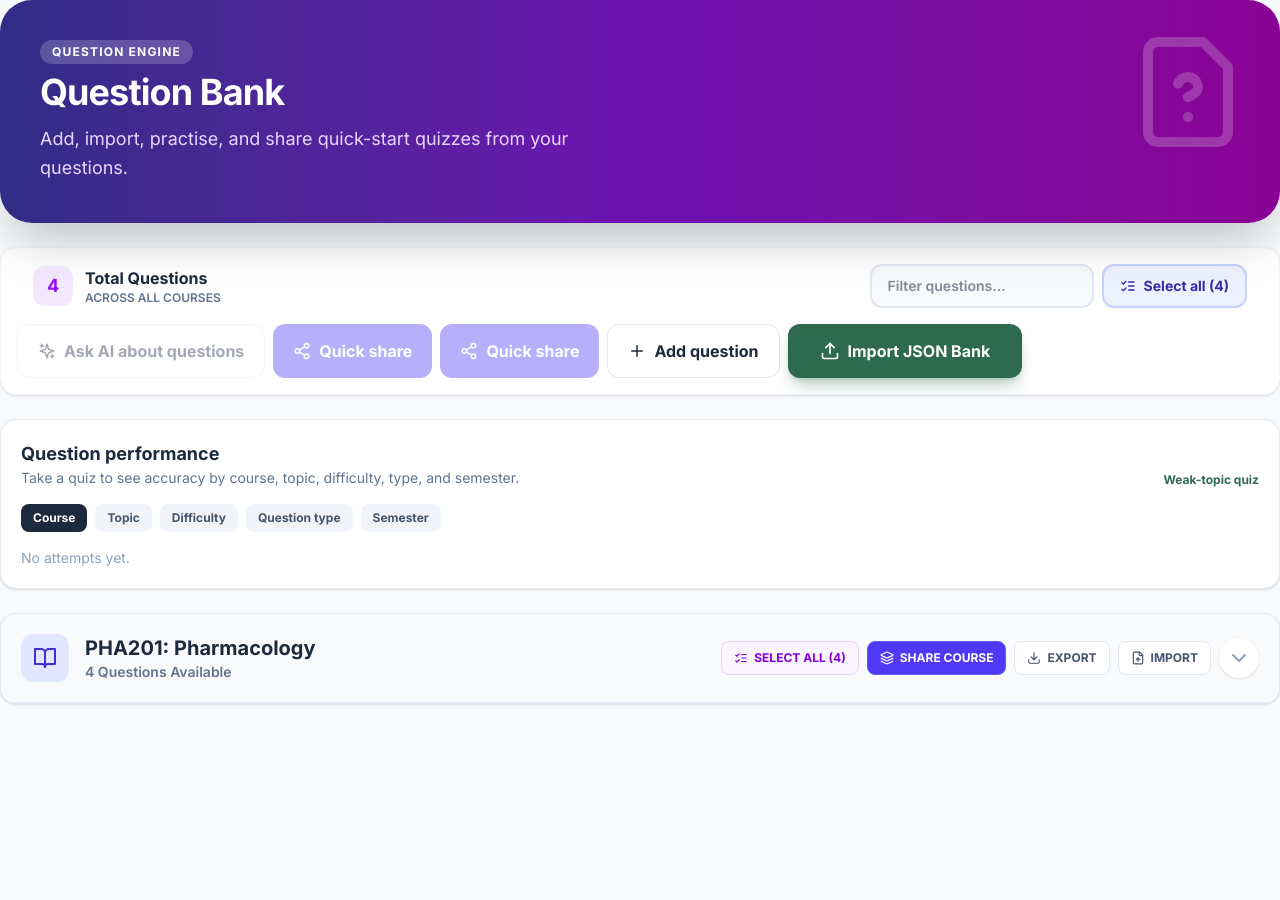
Test case: Select all follows the filter › Clear removes the whole selection in one click
The width and height of the screenshot is (1280, 900).
Click the button with test id "select-all-course-c1". click: click(790, 658)
box: [721,640,859,674]
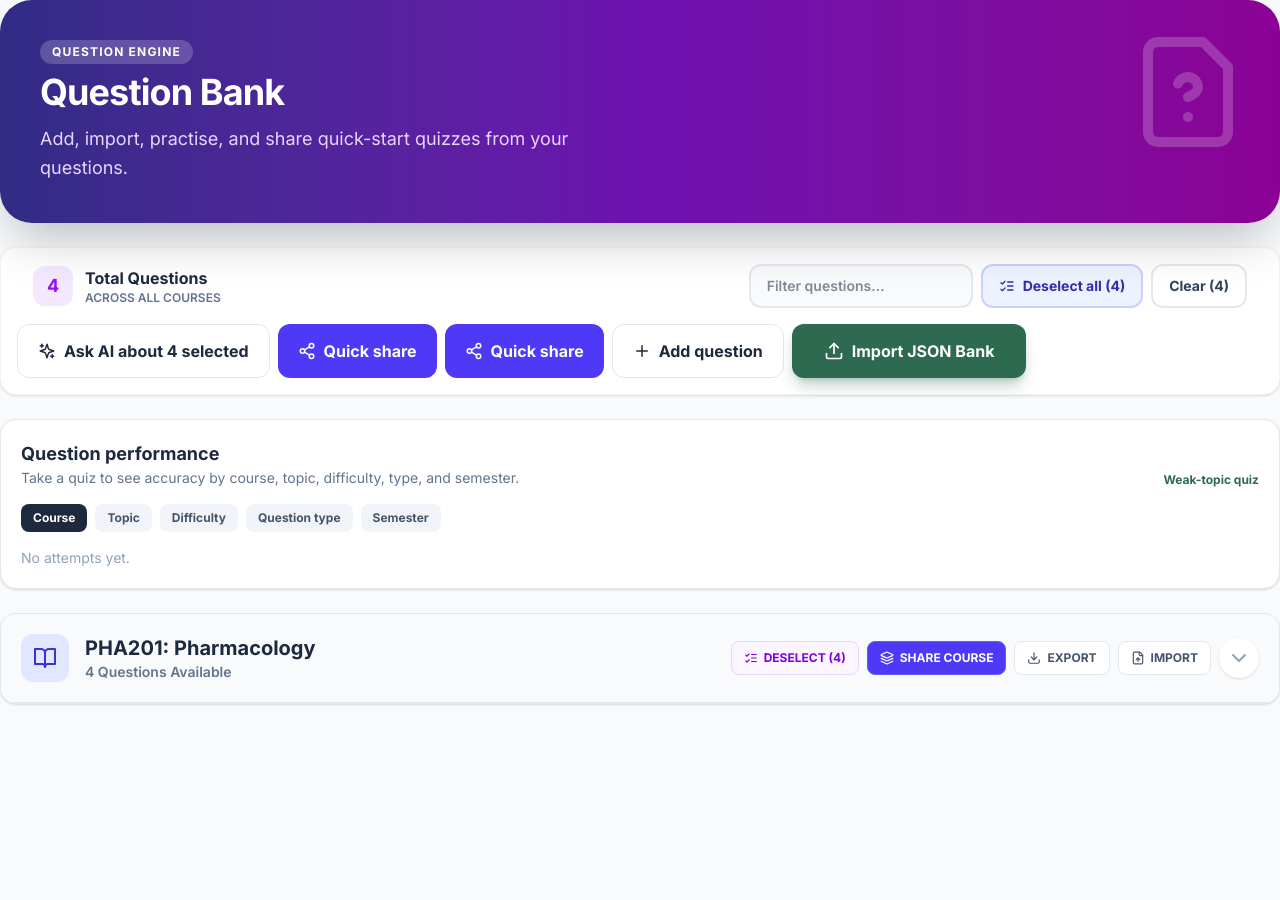
Click the button with test id "clear-question-selection". click: click(1199, 286)
box: [1151,264,1247,308]
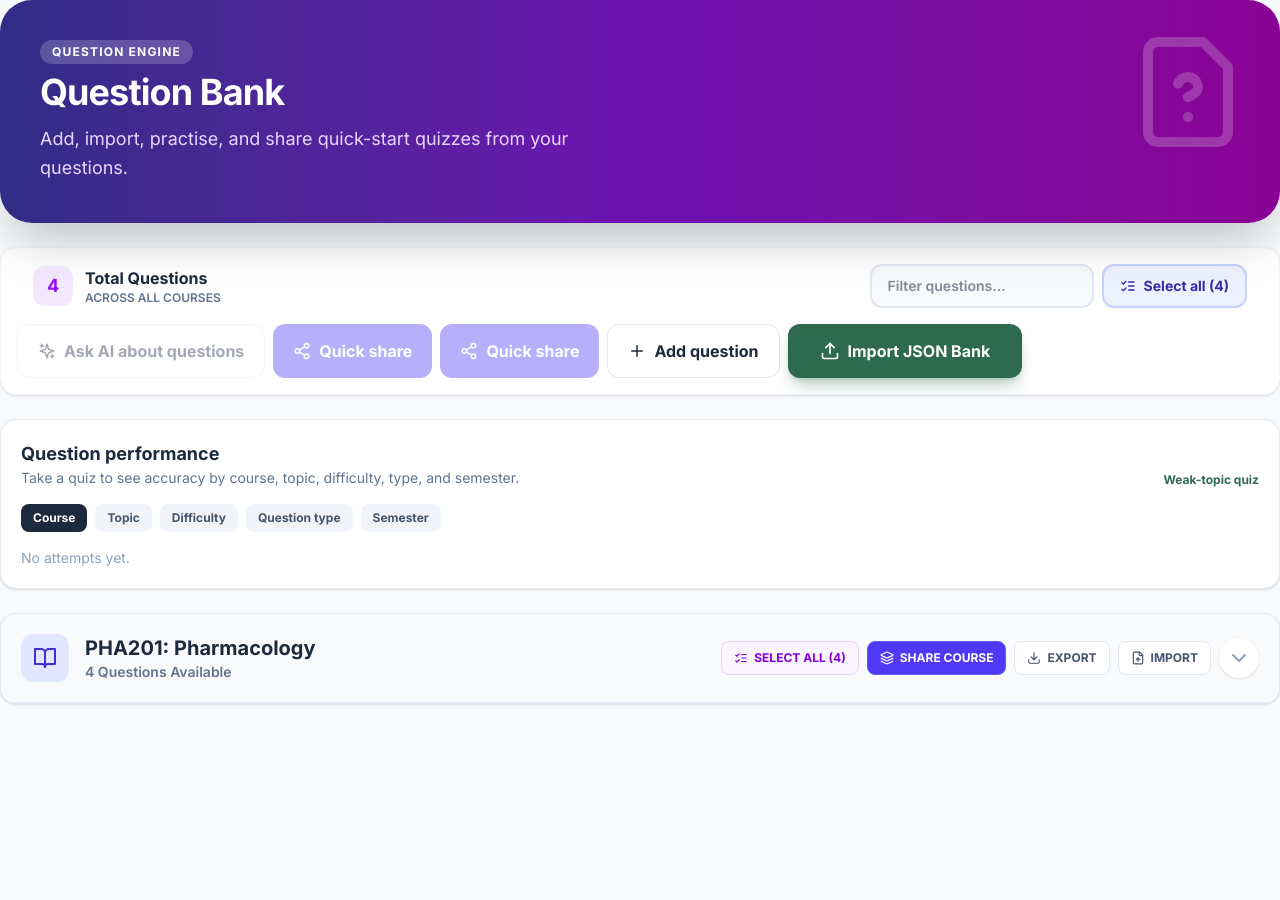
Now the button with test id "clear-question-selection" is gone
Now the text "Ask AI about questions" is shown, box [64,338,244,362]
